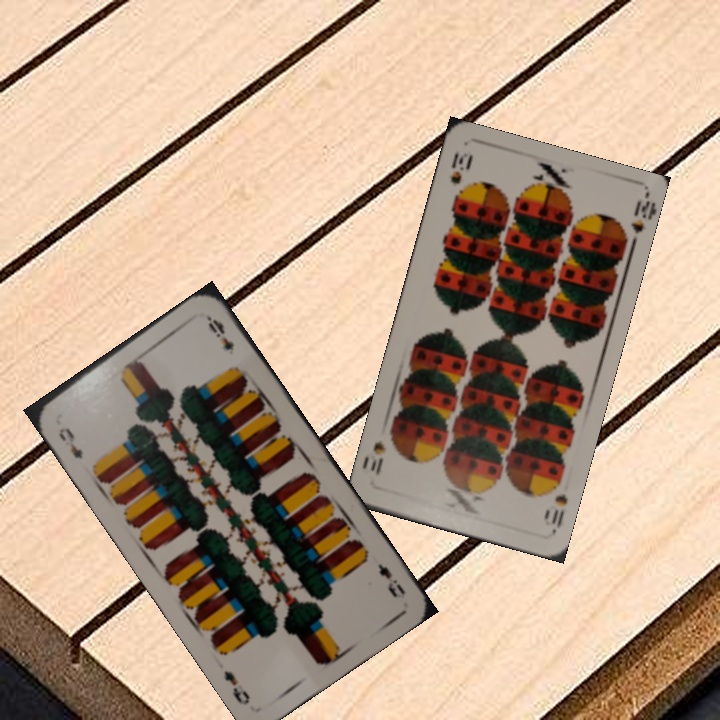E9: (373, 559, 408, 600), (54, 423, 86, 463)
S10: (540, 474, 570, 534), (446, 148, 475, 188)
